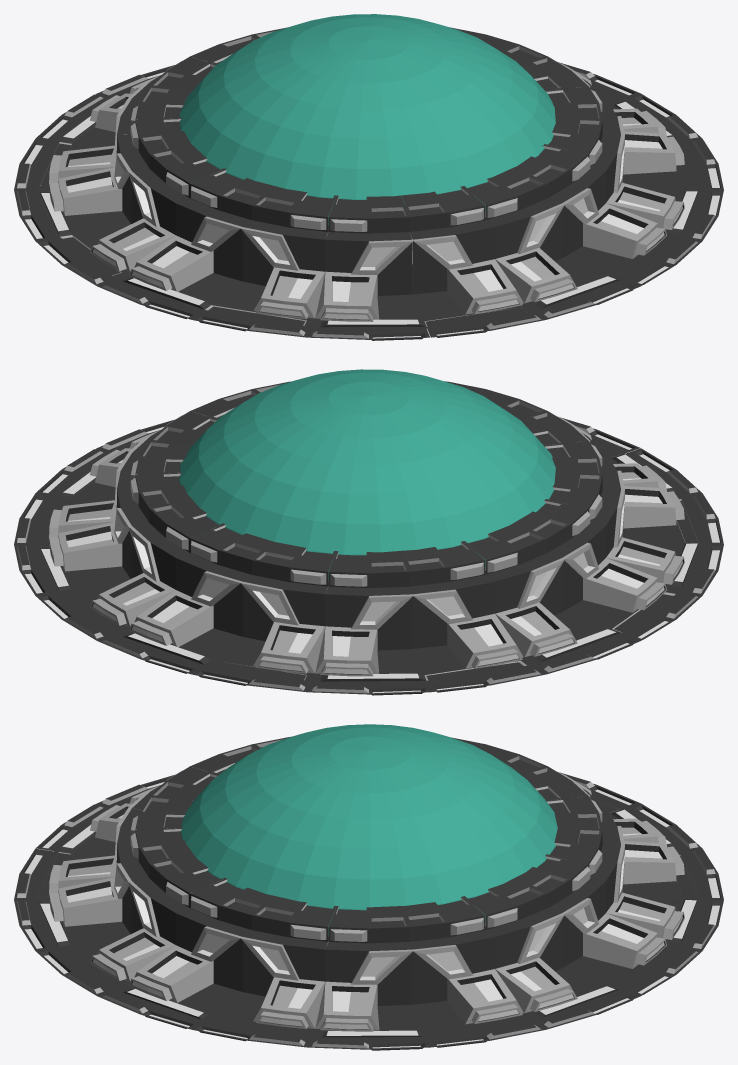
Rendered from UFO2.fbx.
3 renders of one model, top to bottom at view 1: azimuth 30°, elevation 25°; view 2: azimuth 150°, elevation 25°; view 3: azimuth 270°, elevation 25°, orthographic.
Visible parts, largest first — view 1: Plane, Sphere, Plane.001; view 2: Plane, Sphere, Plane.001; view 3: Plane, Sphere, Plane.001.
Boxes of the visible parts, bbox=[...] form: Plane: bbox=[14, 27, 723, 340]; Sphere: bbox=[179, 14, 555, 225]; Plane.001: bbox=[35, 101, 698, 328]; Plane: bbox=[14, 381, 723, 695]; Sphere: bbox=[179, 369, 567, 581]; Plane.001: bbox=[40, 443, 702, 682]; Plane: bbox=[14, 737, 723, 1050]; Sphere: bbox=[180, 724, 557, 936]; Plane.001: bbox=[35, 798, 701, 1037].
Size of the model in its own units: 808 by 282 by 808.
